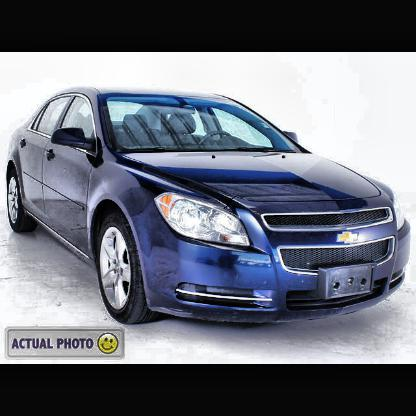Chevrolet Malibu Hybrid Sedan 2010: (9, 84, 414, 327)
